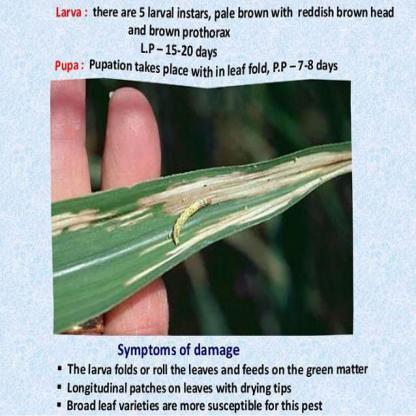leaf-folder: (168, 192, 220, 247)
